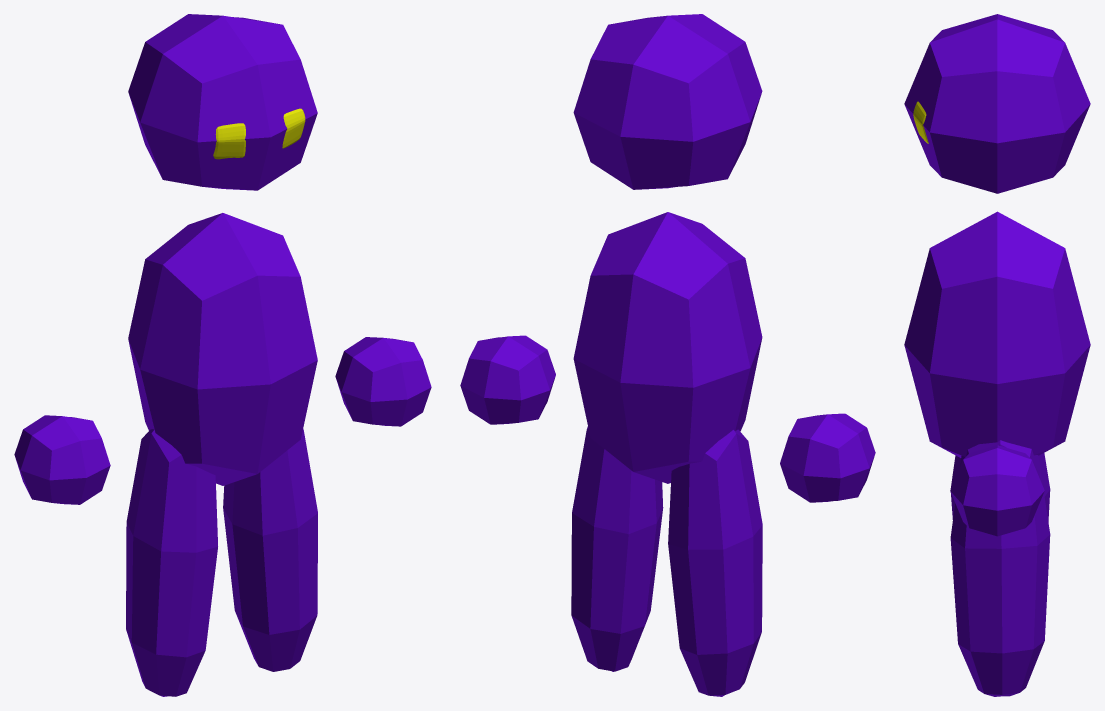
The model's file is Player.fbx.
3 views of the same model, side by side, from view 1: azimuth 30°, elevation 25°; view 2: azimuth 150°, elevation 25°; view 3: azimuth 270°, elevation 25° (orthographic). The views are drawn at different scales.
Parts seen in each view (by area): view 1: Tronco, Cabeça, Perna Direita, Perna Esquerda, Mão Esquerda, Mão Direita, Olhos; view 2: Tronco, Cabeça, Perna Direita, Perna Esquerda, Mão Direita, Mão Esquerda; view 3: Tronco, Cabeça, Perna Esquerda, Mão Esquerda, Perna Direita, Olhos.
Boxes of the visible parts, left/top/right/bottom form: Tronco: left=128, top=213, right=317, bottom=485; Cabeça: left=128, top=14, right=317, bottom=190; Perna Direita: left=126, top=429, right=217, bottom=696; Perna Esquerda: left=223, top=429, right=317, bottom=671; Mão Esquerda: left=335, top=337, right=431, bottom=426; Mão Direita: left=14, top=415, right=110, bottom=504; Olhos: left=213, top=108, right=305, bottom=159; Tronco: left=573, top=212, right=762, bottom=483; Cabeça: left=573, top=14, right=762, bottom=189; Perna Direita: left=668, top=429, right=762, bottom=696; Perna Esquerda: left=571, top=426, right=663, bottom=671; Mão Direita: left=780, top=413, right=875, bottom=502; Mão Esquerda: left=460, top=335, right=555, bottom=424; Tronco: left=904, top=211, right=1090, bottom=457; Cabeça: left=904, top=14, right=1090, bottom=193; Perna Esquerda: left=950, top=440, right=1050, bottom=696; Mão Esquerda: left=950, top=445, right=1044, bottom=536; Perna Direita: left=950, top=453, right=1050, bottom=521; Olhos: left=913, top=101, right=928, bottom=143.
Size of the model in its own units: 411 by 646 by 168.
